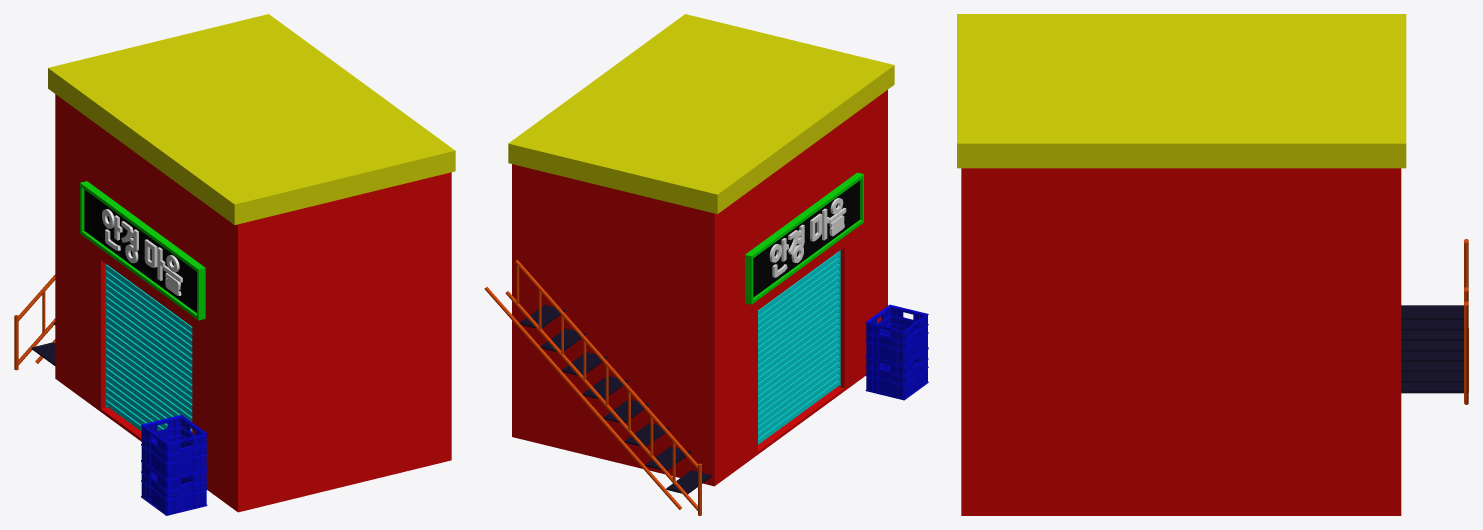
The model's file is Building_5_3.fbx.
The picture shows the model from 3 angles, left to right: view 1: azimuth 30°, elevation 25°; view 2: azimuth 150°, elevation 25°; view 3: azimuth 270°, elevation 25°; orthographic projection. The views are drawn at different scales.
Parts seen in each view (by area): view 1: polySurface1363, polySurface1450, typeMesh21; view 2: polySurface1363, polySurface1450, typeMesh21; view 3: polySurface1363.
Part boxes in pixels (<box>): polySurface1363: <box>14,14,455,515</box>; polySurface1450: <box>80,181,205,320</box>; typeMesh21: <box>102,209,182,295</box>; polySurface1363: <box>484,14,928,515</box>; polySurface1450: <box>745,172,863,304</box>; typeMesh21: <box>769,198,846,277</box>; polySurface1363: <box>957,14,1468,515</box>.
Size of the model in its own units: 169 by 188 by 228.
